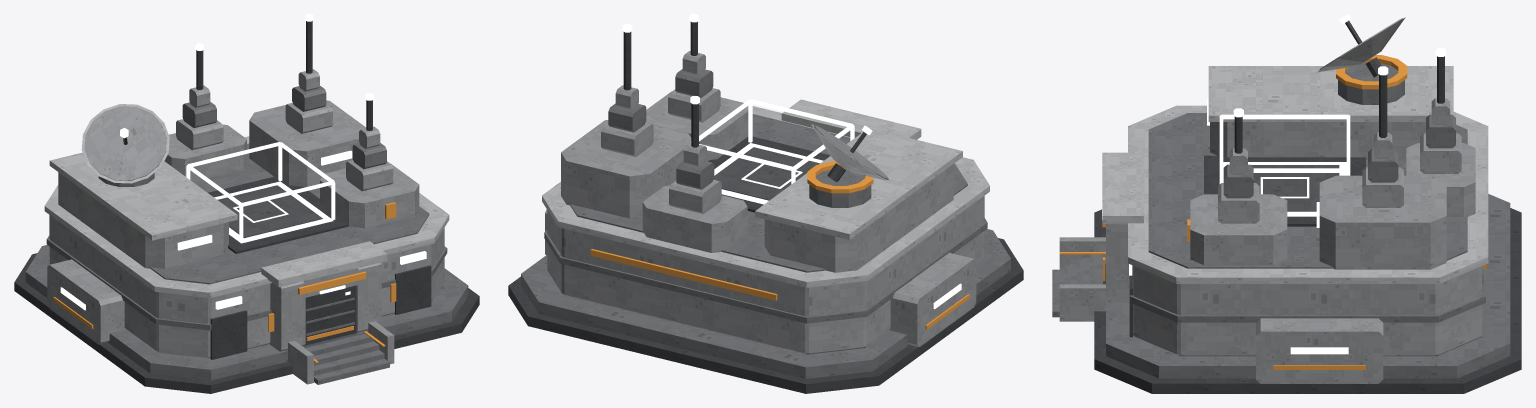
Rendered from storage_lod0.glb.
The picture shows the model from 3 angles, left to right: view 1: azimuth 30°, elevation 25°; view 2: azimuth 150°, elevation 25°; view 3: azimuth 270°, elevation 25°; orthographic projection. The views are drawn at different scales.
Visible parts, largest first — view 1: storage_base_body, storage_dish_body, storage_hologram_glow, storage_door_body, storage_base_glow, storage_base_trim; view 2: storage_base_body, storage_hologram_glow, storage_base_trim, storage_dish_body, storage_base_glow; view 3: storage_base_body, storage_hologram_glow, storage_base_trim, storage_dish_body, storage_base_glow.
Boxes of the visible parts, x1,y1,x2,y2 form: storage_base_body: [14, 21, 479, 393]; storage_dish_body: [81, 104, 169, 183]; storage_hologram_glow: [186, 142, 335, 243]; storage_door_body: [304, 285, 355, 345]; storage_base_glow: [60, 14, 426, 310]; storage_base_trim: [53, 202, 396, 362]; storage_base_body: [508, 21, 1023, 393]; storage_hologram_glow: [691, 99, 854, 204]; storage_base_trim: [590, 161, 969, 329]; storage_dish_body: [811, 124, 890, 182]; storage_base_glow: [622, 14, 961, 309]; storage_base_body: [1052, 56, 1521, 393]; storage_hologram_glow: [1219, 114, 1350, 216]; storage_base_trim: [1059, 55, 1486, 369]; storage_dish_body: [1317, 17, 1405, 77]; storage_base_glow: [1102, 48, 1445, 354].
Bounding box in the file's own units: 4.05 × 2.7 × 4.06.
3 materials, 1 textured.
